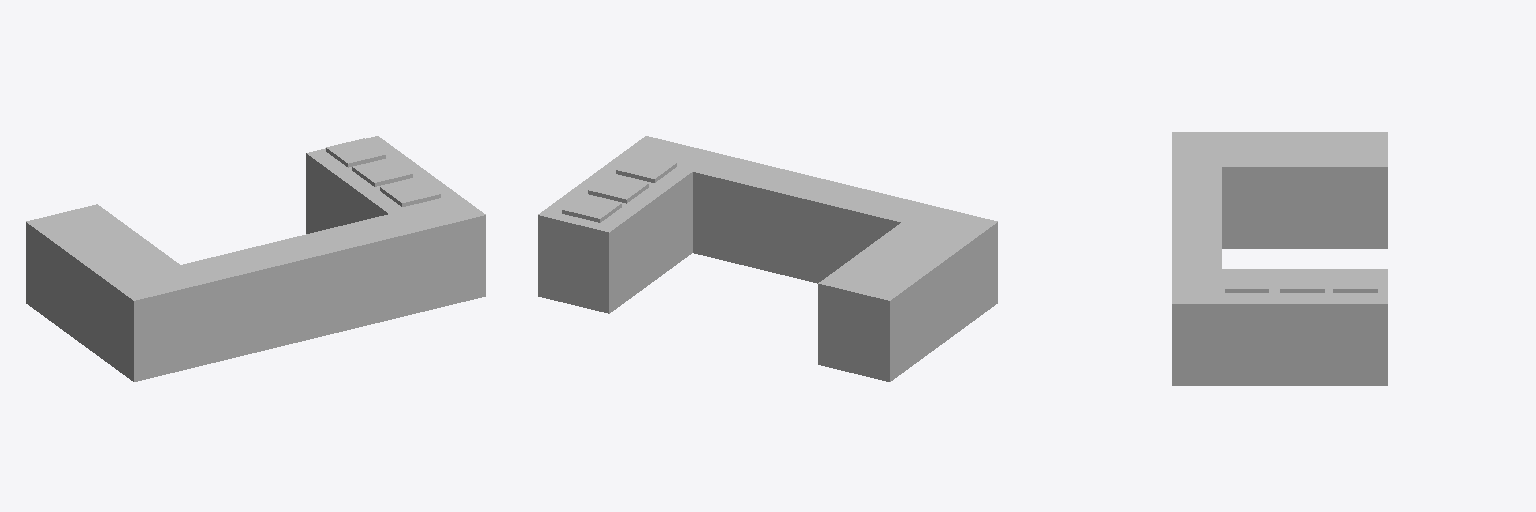
Rendered from counter.obj.
3 renders of one model, left to right at view 1: azimuth 30°, elevation 25°; view 2: azimuth 150°, elevation 25°; view 3: azimuth 270°, elevation 25°, orthographic.
Visible parts, largest first — view 1: Cube.009; view 2: Cube.009; view 3: Cube.009.
Part boxes in pixels (left/top/right/bottom): Cube.009: left=26, top=136, right=485, bottom=381; Cube.009: left=538, top=136, right=997, bottom=381; Cube.009: left=1172, top=132, right=1387, bottom=385.
Size of the model in its own units: 9.06 by 2.15 by 4.83.